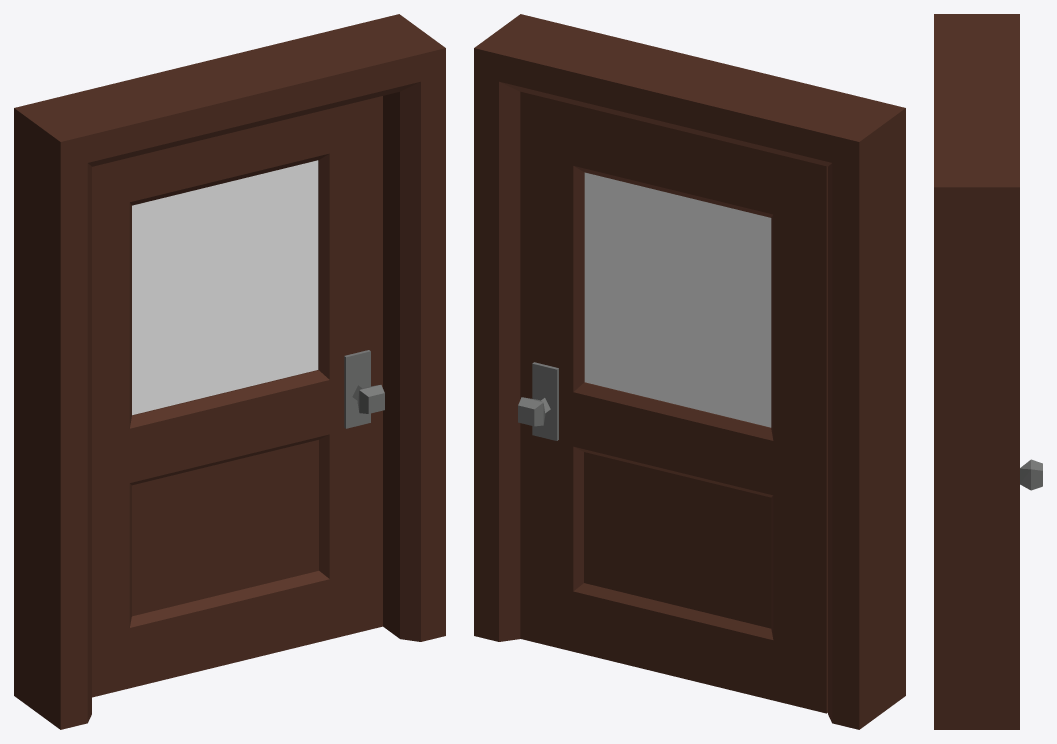
File: EbonyDoor.glb
3 views of the same model, side by side, from view 1: azimuth 30°, elevation 25°; view 2: azimuth 150°, elevation 25°; view 3: azimuth 270°, elevation 25° (orthographic). The views are drawn at different scales.
Visible parts, largest first — view 1: Door, Frame, Glass; view 2: Door, Frame, Glass; view 3: Frame, Door.
Part boxes in pixels (<box>): Door: <box>92,96,384,697</box>; Frame: <box>14,14,445,729</box>; Glass: <box>132,160,318,415</box>; Door: <box>518,91,827,713</box>; Frame: <box>474,14,905,729</box>; Glass: <box>584,172,771,427</box>; Frame: <box>934,14,1019,729</box>; Door: <box>1020,459,1042,490</box>.
Bounding box in the file's own units: 1.57 × 2.29 × 0.4152.
2 materials, 1 textured.
